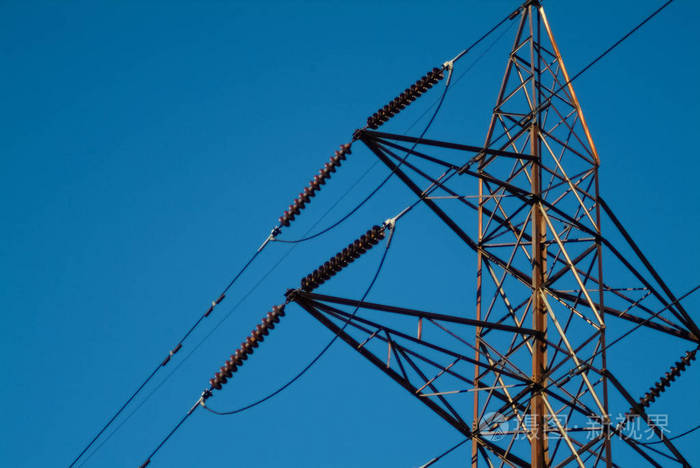insulator: (207, 306, 283, 392), (275, 144, 350, 226), (301, 227, 385, 290), (366, 65, 447, 126), (640, 351, 694, 408)
